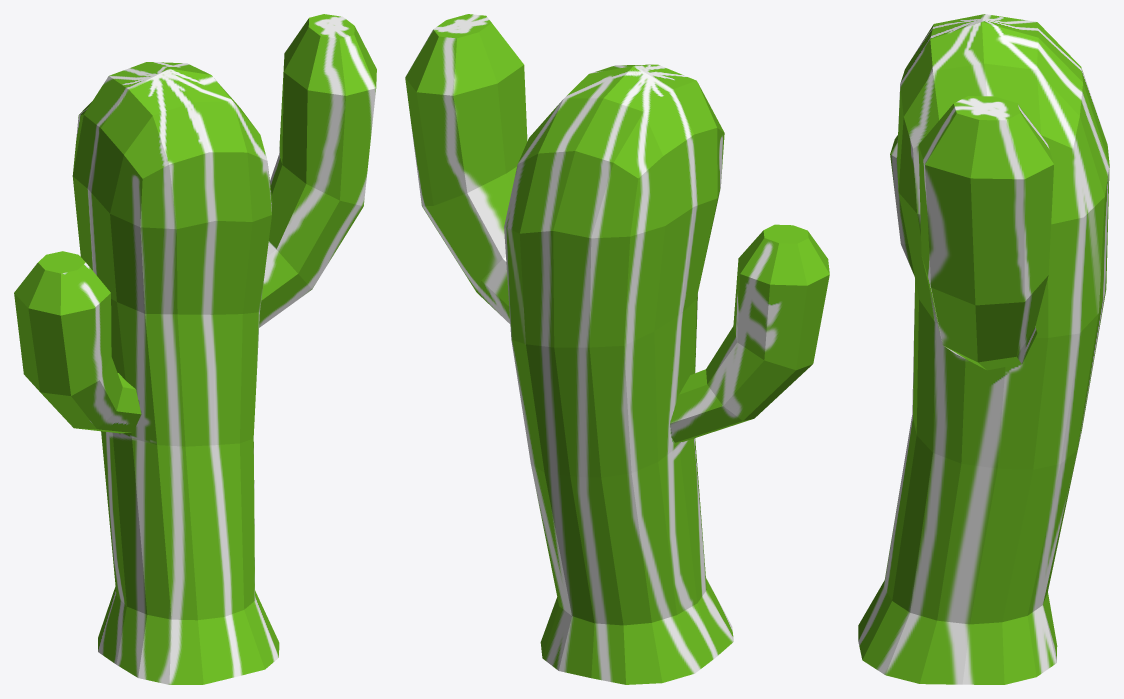
File: cactuses_biotank.obj
3 views of the same model, side by side, from view 1: azimuth 30°, elevation 25°; view 2: azimuth 150°, elevation 25°; view 3: azimuth 270°, elevation 25° (orthographic). The views are drawn at different scales.
Parts seen in each view (by area): view 1: Plane.002; view 2: Plane.002; view 3: Plane.002.
Part boxes in pixels (<box>): Plane.002: <box>14,14,376,684</box>; Plane.002: <box>405,14,829,684</box>; Plane.002: <box>858,14,1109,684</box>.
Bounding box in the file's own units: 3.28 × 4.89 × 1.78.
